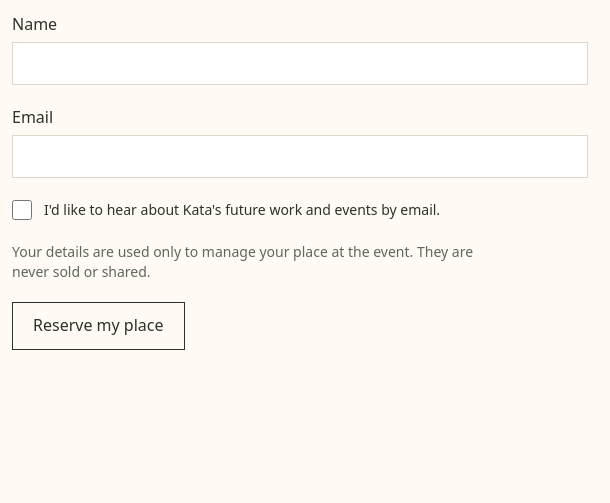
RsvpForm › translates server field-error codes into the active language
Type "Guest" into the field labelled "Name".
click(300, 63); type("Guest")  # box top-left (12, 42), bottom-right (588, 85)
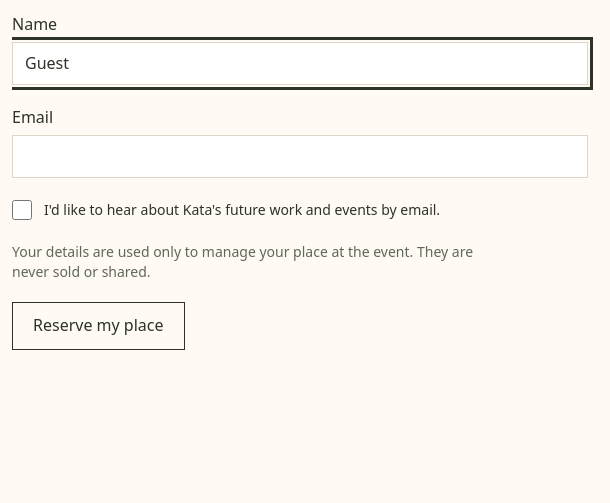
Type "nope" into the field labelled "Email".
click(300, 157); type("nope")  # box top-left (12, 135), bottom-right (588, 178)
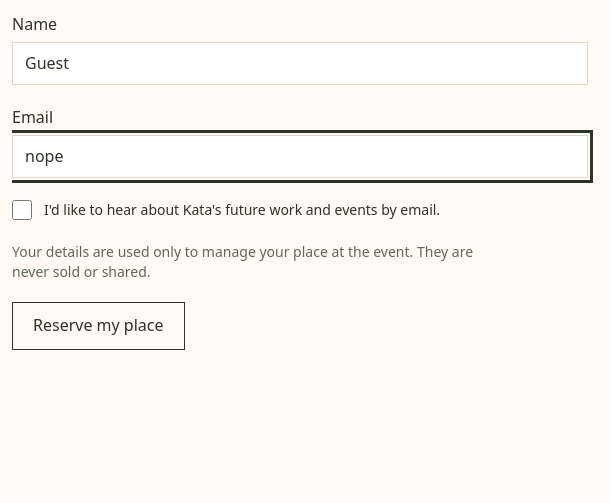
Click the button "Reserve my place".
click(98, 326)  # box top-left (12, 302), bottom-right (184, 350)
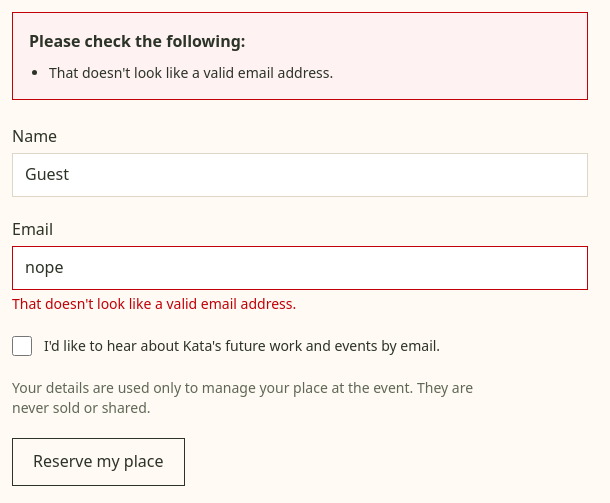
Check: the message shows "That doesn't look like a valid email address.", box top-left (49, 63), bottom-right (333, 82)
